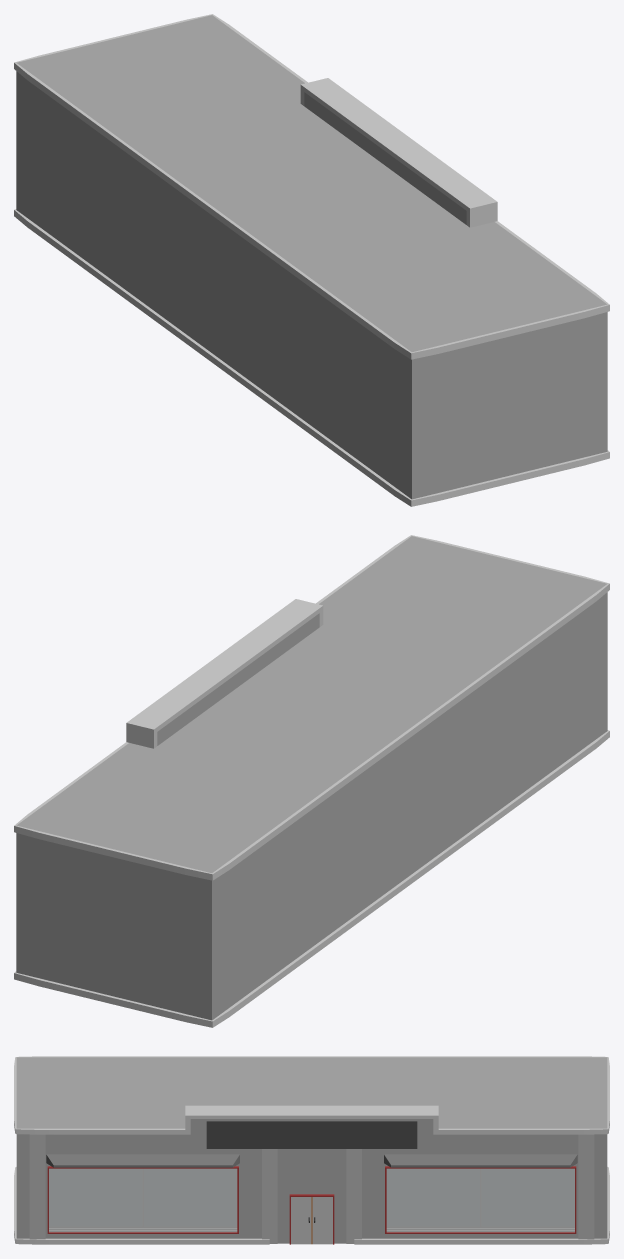
Rendered from Building_22.fbx.
The picture shows the model from 3 angles, top to bottom: view 1: azimuth 30°, elevation 25°; view 2: azimuth 150°, elevation 25°; view 3: azimuth 270°, elevation 25°; orthographic projection. The views are drawn at different scales.
Parts seen in each view (by area): view 1: polySurface101; view 2: polySurface101; view 3: polySurface101.
Boxes of the visible parts, <box> form: polySurface101: <box>14,14,609,506</box>; polySurface101: <box>14,535,609,1027</box>; polySurface101: <box>14,1056,609,1244</box>.
Size of the model in its own units: 8.62 by 6.75 by 28.25.
